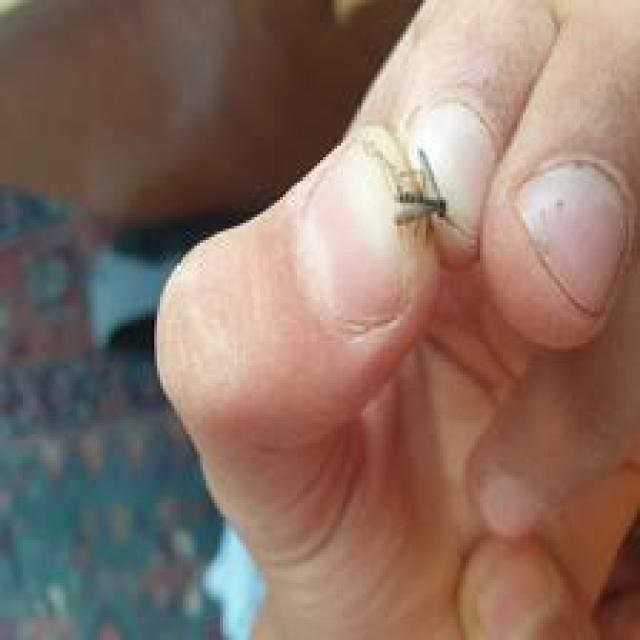Aedes albopictus: (361, 124, 473, 244)
